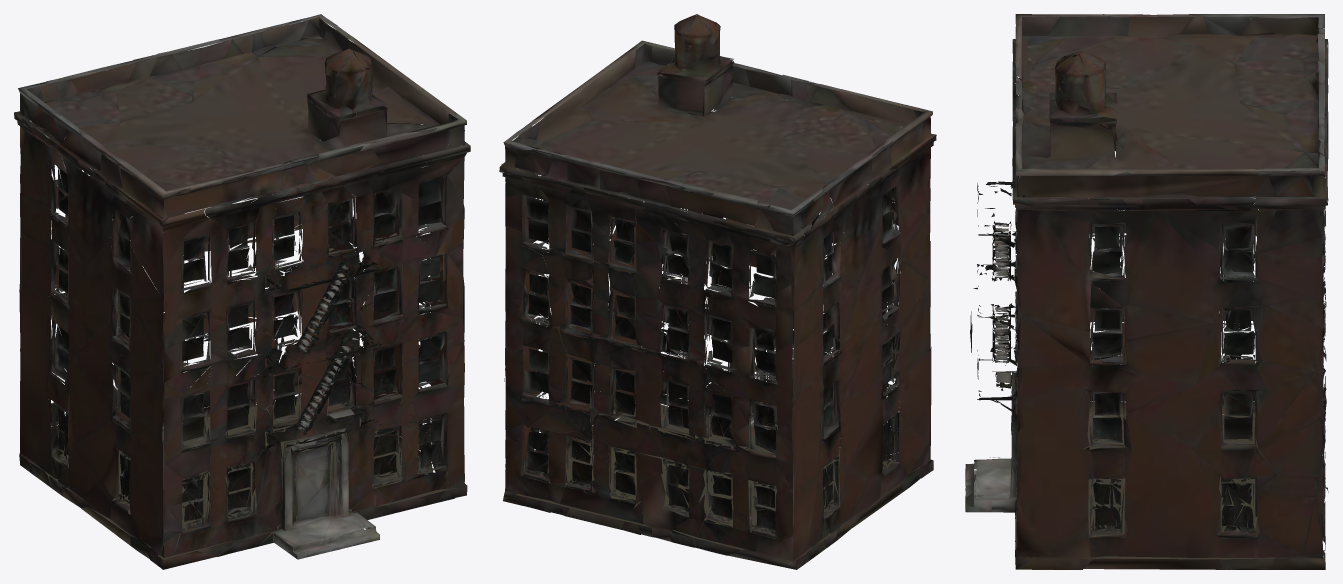
The model's file is apt-02-brick.far.glb.
3 views of the same model, side by side, from view 1: azimuth 30°, elevation 25°; view 2: azimuth 150°, elevation 25°; view 3: azimuth 270°, elevation 25° (orthographic). The views are drawn at different scales.
Visible parts, largest first — view 1: geometry_0; view 2: geometry_0; view 3: geometry_0.
Boxes of the visible parts, <box> form: geometry_0: <box>14,14,470,569</box>; geometry_0: <box>499,14,936,569</box>; geometry_0: <box>965,14,1328,569</box>.
Size of the model in its own units: 1.39 by 1.9 by 1.32.
Materials: 1 (1 with a texture image).
